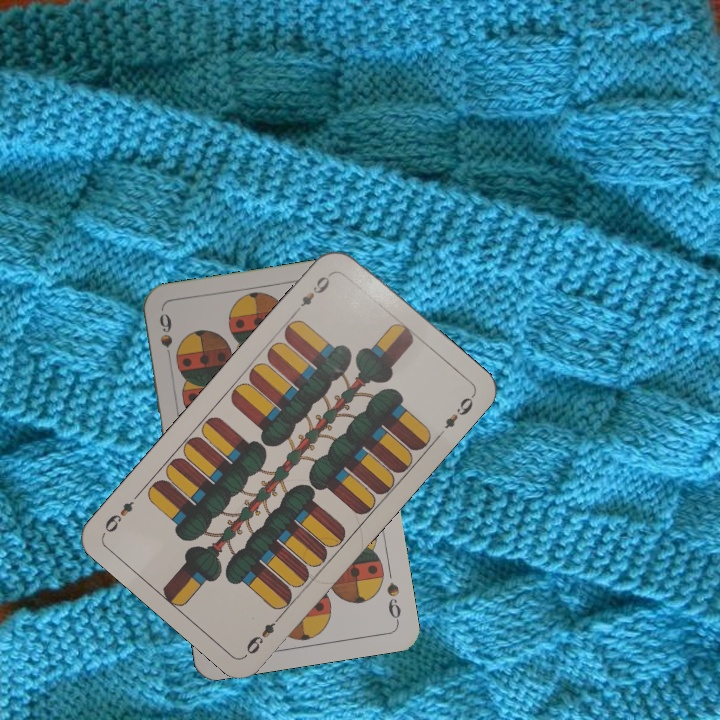E9: (242, 609, 285, 657), (296, 269, 335, 311)
S9: (155, 309, 175, 367), (383, 578, 404, 625)
